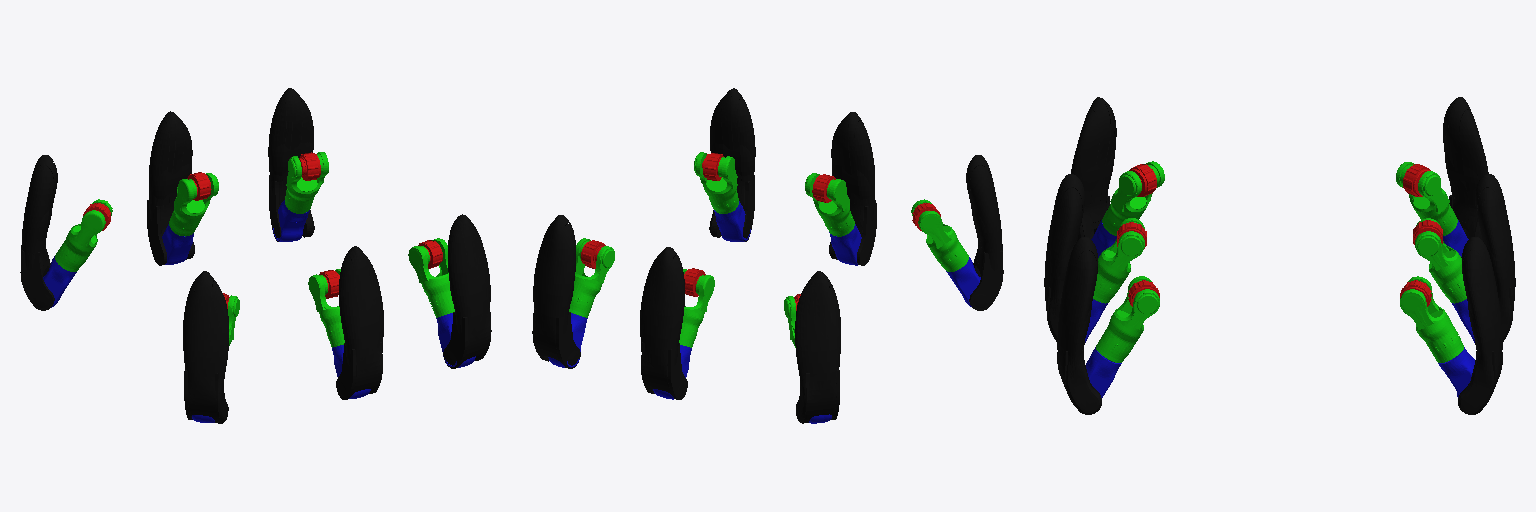
--- What the picture shows (computed from the rendered views, not written in the file) ---
3 views of the same robot in one strip: view 1: azimuth 30°, elevation 25°; view 2: azimuth 150°, elevation 25°; view 3: azimuth 270°, elevation 25° (orthographic).
Model crabster with 26 links and 25 joints (24 revolute, 1 fixed), rooted at world, posed all joints at 0.
Visible links, largest first — view 1: Subsystem14(FR_Leg), Subsystem24(MR_Leg), Subsystem34(RR_Leg), Subsystem54(ML_Leg), Subsystem44(FL_Leg), Subsystem64(RL_Leg), Subsystem32(RR_Roll_Arm), Subsystem42(FL_Roll_Arm), Subsystem52(ML_Roll_Arm), Subsystem62(RL_Roll_Arm), Subsystem22(MR_Roll_Arm), Subsystem63(RL_Pitch_Arm) (+3 smaller); view 2: Subsystem44(FL_Leg), Subsystem54(ML_Leg), Subsystem64(RL_Leg), Subsystem24(MR_Leg), Subsystem14(FR_Leg), Subsystem34(RR_Leg), Subsystem12(FR_Roll_Arm), Subsystem62(RL_Roll_Arm), Subsystem22(MR_Roll_Arm), Subsystem32(RR_Roll_Arm), Subsystem52(ML_Roll_Arm), Subsystem33(RR_Pitch_Arm) (+2 smaller); view 3: Subsystem64(RL_Leg), Subsystem34(RR_Leg), Subsystem44(FL_Leg), Subsystem14(FR_Leg), Subsystem24(MR_Leg), Subsystem54(ML_Leg), Subsystem32(RR_Roll_Arm), Subsystem62(RL_Roll_Arm), Subsystem22(MR_Roll_Arm), Subsystem52(ML_Roll_Arm), Subsystem12(FR_Roll_Arm), Subsystem42(FL_Roll_Arm) (+2 smaller).
Link boxes in pixels (bbox=[...]): Subsystem14(FR_Leg): bbox=[183, 271, 228, 423]; Subsystem24(MR_Leg): bbox=[336, 246, 383, 399]; Subsystem34(RR_Leg): bbox=[443, 214, 491, 368]; Subsystem54(ML_Leg): bbox=[147, 111, 194, 265]; Subsystem44(FL_Leg): bbox=[20, 155, 57, 310]; Subsystem64(RL_Leg): bbox=[268, 88, 314, 241]; Subsystem32(RR_Roll_Arm): bbox=[408, 238, 454, 317]; Subsystem42(FL_Roll_Arm): bbox=[55, 199, 112, 271]; Subsystem52(ML_Roll_Arm): bbox=[169, 173, 218, 236]; Subsystem62(RL_Roll_Arm): bbox=[285, 152, 328, 213]; Subsystem22(MR_Roll_Arm): bbox=[308, 269, 344, 347]; Subsystem63(RL_Pitch_Arm): bbox=[273, 200, 309, 241]; Subsystem44(FL_Leg): bbox=[795, 271, 840, 423]; Subsystem54(ML_Leg): bbox=[640, 247, 687, 399]; Subsystem64(RL_Leg): bbox=[532, 215, 580, 368]; Subsystem24(MR_Leg): bbox=[829, 112, 876, 265]; Subsystem14(FR_Leg): bbox=[966, 155, 1003, 310]; Subsystem34(RR_Leg): bbox=[709, 88, 755, 241]; Subsystem12(FR_Roll_Arm): bbox=[911, 199, 968, 271]; Subsystem62(RL_Roll_Arm): bbox=[569, 238, 614, 317]; Subsystem22(MR_Roll_Arm): bbox=[805, 173, 854, 236]; Subsystem32(RR_Roll_Arm): bbox=[694, 152, 738, 213]; Subsystem52(ML_Roll_Arm): bbox=[679, 269, 714, 347]; Subsystem33(RR_Pitch_Arm): bbox=[714, 201, 750, 241]; Subsystem64(RL_Leg): bbox=[1458, 237, 1502, 414]; Subsystem34(RR_Leg): bbox=[1057, 237, 1101, 414]; Subsystem44(FL_Leg): bbox=[1443, 97, 1488, 257]; Subsystem14(FR_Leg): bbox=[1071, 97, 1116, 240]; Subsystem24(MR_Leg): bbox=[1044, 174, 1084, 344]; Subsystem54(ML_Leg): bbox=[1475, 174, 1515, 344]; Subsystem32(RR_Roll_Arm): bbox=[1096, 276, 1159, 362]; Subsystem62(RL_Roll_Arm): bbox=[1400, 276, 1463, 362]; Subsystem22(MR_Roll_Arm): bbox=[1093, 218, 1144, 303]; Subsystem52(ML_Roll_Arm): bbox=[1415, 218, 1466, 303]; Subsystem12(FR_Roll_Arm): bbox=[1102, 161, 1164, 235]; Subsystem42(FL_Roll_Arm): bbox=[1396, 162, 1457, 235].
Bounding box of the posed robot: 2.15 × 2.6 × 1.04 m (x, y, z).
Meshes: 25 distinct files referenced, 24 mesh visuals loaded (24 binary STL); not drawn: 1 (reference not matched to a file when rendering).

The robot description file, URDF, robot "crabster":
<?xml version="1.0"?>
<robot
	xmlns:xacro="http://wiki.ros.org/xacro" name="crabster">

	<link name="world"></link>
	<link name="BaseBody">
		<inertial>
			<origin
				xyz="-0.354345 0.000365 -0.054511"
				rpy="0.000644 0.000062 1.570881"/>
			<mass
				value="100.040817"/>
			<inertia
				ixx="37.154571"
				ixy="-0.000000"
				ixz="0.000000"
				iyy="52.546078"
				iyz="0.000000"
				izz="87.239257"/>
		</inertial>
		<visual>
			<origin xyz="0 0 0" rpy="0 0 0"/>
			<geometry>
				<mesh filename="package://crabster_visual/meshes/BaseBody.STL"/>
			</geometry>
			<material name="">
				<color rgba="0.8 0.8 0.8 1"/>
			</material>
		</visual>
		<collision>
			<origin xyz="0 0 0" rpy="0 0 0"/>
			<geometry>
				<mesh filename="package://crabster_visual/meshes/BaseBody.STL"/>
			</geometry>
		</collision>
	</link>
	<joint name="world_to_BaseBody" type="fixed">
		<origin
			xyz="0.000000 0.000000 0.000000"
			rpy="3.141593 0.000000 3.141593"/>
		<parent link="world"/>
		<child link="BaseBody"/>
	</joint>
	<link name="Subsystem11(FR_Yaw_Motor)">
		<inertial>
			<origin
				xyz="-0.000025 -0.004826 0.005438"
				rpy="0.000017 0.000646 1.597550"/>
			<mass
				value="10.281919"/>
			<inertia
				ixx="0.025810"
				ixy="0.000000"
				ixz="-0.000000"
				iyy="0.025875"
				iyz="0.000000"
				izz="0.031298"/>
		</inertial>
		<visual>
			<origin xyz="0 0 0" rpy="0 0 0"/>
			<geometry>
				<mesh filename="package://crabster_visual/meshes/Subsystem11(FR_Yaw_Motor).STL"/>
			</geometry>
			<material name="">
				<color rgba="0.8 0.1 0.1 1"/>
			</material>
		</visual>
		<collision>
			<origin xyz="0 0 0" rpy="0 0 0"/>
			<geometry>
				<mesh filename="package://crabster_visual/meshes/Subsystem11(FR_Yaw_Motor).STL"/>
			</geometry>
		</collision>
	</link>
	<joint name="BaseBody_to_Subsystem11(FR_Yaw_Motor)" type="revolute">
		<origin
			xyz="0.416200 -0.760100 -0.005500"
			rpy="0.000000 -0.000000 -0.785398"/>
		<parent link="BaseBody"/>
		<child link="Subsystem11(FR_Yaw_Motor)"/>
		<axis xyz="0 0 1"/>
		<limit
			lower="-3.14"
			upper="3.14"
			effort="10"
			velocity="100"/>
	</joint>
	<link name="Subsystem12(FR_Roll_Arm)">
		<inertial>
			<origin
				xyz="0.216360 -0.000124 -0.001763"
				rpy="-1.570230 0.015923 -3.141552"/>
			<mass
				value="10.085826"/>
			<inertia
				ixx="0.052195"
				ixy="0.000000"
				ixz="-0.000000"
				iyy="0.166548"
				iyz="0.000000"
				izz="0.185913"/>
		</inertial>
		<visual>
			<origin xyz="0 0 0" rpy="0 0 0"/>
			<geometry>
				<mesh filename="package://crabster_visual/meshes/Subsystem12(FR_Roll_Arm).STL"/>
			</geometry>
			<material name="">
				<color rgba="0.1 0.8 0.1 1"/>
			</material>
		</visual>
		<collision>
			<origin xyz="0 0 0" rpy="0 0 0"/>
			<geometry>
				<mesh filename="package://crabster_visual/meshes/Subsystem12(FR_Roll_Arm).STL"/>
			</geometry>
		</collision>
	</link>
	<joint name="Subsystem11(FR_Yaw_Motor)_to_Subsystem12(FR_Roll_Arm)" type="revolute">
		<origin
			xyz="0.000000 0.000000 0.000000"
			rpy="-1.570804 -1.047193 0.000009"/>
		<parent link="Subsystem11(FR_Yaw_Motor)"/>
		<child link="Subsystem12(FR_Roll_Arm)"/>
		<axis xyz="0 0 1"/>
		<limit
			lower="-3.14"
			upper="3.14"
			effort="10"
			velocity="100"/>
	</joint>
	<link name="Subsystem13(FR_Pitch_Arm)">
		<inertial>
			<origin
				xyz="-0.000199 0.003130 0.181480"
				rpy="1.527506 -1.549390 -1.518990"/>
			<mass
				value="10.017580"/>
			<inertia
				ixx="0.058985"
				ixy="-0.000000"
				ixz="-0.000000"
				iyy="0.127085"
				iyz="0.000000"
				izz="0.134936"/>
		</inertial>
		<visual>
			<origin xyz="0 0 0" rpy="0 0 0"/>
			<geometry>
				<mesh filename="package://crabster_visual/meshes/Subsystem13(FR_Pitch_Arm).STL"/>
			</geometry>
			<material name="">
				<color rgba="0.1 0.1 0.8 1"/>
			</material>
		</visual>
		<collision>
			<origin xyz="0 0 0" rpy="0 0 0"/>
			<geometry>
				<mesh filename="package://crabster_visual/meshes/Subsystem13(FR_Pitch_Arm).STL"/>
			</geometry>
		</collision>
	</link>
	<joint name="Subsystem12(FR_Roll_Arm)_to_Subsystem13(FR_Pitch_Arm)" type="revolute">
		<origin
			xyz="0.394588 -0.000121 -0.000617"
			rpy="-2.356194 -1.570791 -0.785394"/>
		<parent link="Subsystem12(FR_Roll_Arm)"/>
		<child link="Subsystem13(FR_Pitch_Arm)"/>
		<axis xyz="0 0 1"/>
		<limit
			lower="-3.14"
			upper="3.14"
			effort="10"
			velocity="100"/>
	</joint>
	<link name="Subsystem14(FR_Leg)">
		<inertial>
			<origin
				xyz="0.276408 0.382057 -0.007738"
				rpy="-1.556785 -0.045628 1.077894"/>
			<mass
				value="20.079610"/>
			<inertia
				ixx="0.132719"
				ixy="0.000000"
				ixz="0.000000"
				iyy="0.950656"
				iyz="0.000000"
				izz="1.015634"/>
		</inertial>
		<visual>
			<origin xyz="0 0 0" rpy="0 0 0"/>
			<geometry>
				<mesh filename="package://crabster_visual/meshes/Subsystem14(FR_Leg).STL"/>
			</geometry>
			<material name="">
				<color rgba="0.1 0.1 0.1 1"/>
			</material>
		</visual>
		<collision>
			<origin xyz="0 0 0" rpy="0 0 0"/>
			<geometry>
				<mesh filename="package://crabster_visual/meshes/Subsystem14(FR_Leg).STL"/>
			</geometry>
		</collision>
	</link>
	<joint name="Subsystem13(FR_Pitch_Arm)_to_Subsystem14(FR_Leg)" type="revolute">
		<origin
			xyz="-0.000090 0.000026 0.263276"
			rpy="-1.570800 -0.000003 -1.570793"/>
		<parent link="Subsystem13(FR_Pitch_Arm)"/>
		<child link="Subsystem14(FR_Leg)"/>
		<axis xyz="0 0 1"/>
		<limit
			lower="-3.14"
			upper="3.14"
			effort="10"
			velocity="100"/>
	</joint>
	<link name="Subsystem21(MR_Yaw_Motor)">
		<inertial>
			<origin
				xyz="-0.000019 -0.004751 0.005430"
				rpy="-3.141460 -1.543093 -1.570929"/>
			<mass
				value="10.297182"/>
			<inertia
				ixx="0.025879"
				ixy="0.000000"
				ixz="0.000000"
				iyy="0.025944"
				iyz="0.000000"
				izz="0.031343"/>
		</inertial>
		<visual>
			<origin xyz="0 0 0" rpy="0 0 0"/>
			<geometry>
				<mesh filename="package://crabster_visual/meshes/Subsystem21(MR_Yaw_Motor).STL"/>
			</geometry>
			<material name="">
				<color rgba="0.8 0.1 0.1 1"/>
			</material>
		</visual>
		<collision>
			<origin xyz="0 0 0" rpy="0 0 0"/>
			<geometry>
				<mesh filename="package://crabster_visual/meshes/Subsystem21(MR_Yaw_Motor).STL"/>
			</geometry>
		</collision>
	</link>
	<joint name="BaseBody_to_Subsystem21(MR_Yaw_Motor)" type="revolute">
		<origin
			xyz="-0.343900 -0.817000 -0.005500"
			rpy="0.000000 -0.000000 -1.570800"/>
		<parent link="BaseBody"/>
		<child link="Subsystem21(MR_Yaw_Motor)"/>
		<axis xyz="0 0 1"/>
		<limit
			lower="-3.14"
			upper="3.14"
			effort="10"
			velocity="100"/>
	</joint>
	<link name="Subsystem22(MR_Roll_Arm)">
		<inertial>
			<origin
				xyz="0.217032 -0.000121 -0.000788"
				rpy="-1.570800 0.011003 -3.141562"/>
			<mass
				value="10.022381"/>
			<inertia
				ixx="0.051051"
				ixy="0.000000"
				ixz="0.000000"
				iyy="0.168881"
				iyz="0.000000"
				izz="0.186995"/>
		</inertial>
		<visual>
			<origin xyz="0 0 0" rpy="0 0 0"/>
			<geometry>
				<mesh filename="package://crabster_visual/meshes/Subsystem22(MR_Roll_Arm).STL"/>
			</geometry>
			<material name="">
				<color rgba="0.1 0.8 0.1 1"/>
			</material>
		</visual>
		<collision>
			<origin xyz="0 0 0" rpy="0 0 0"/>
			<geometry>
				<mesh filename="package://crabster_visual/meshes/Subsystem22(MR_Roll_Arm).STL"/>
			</geometry>
		</collision>
	</link>
	<joint name="Subsystem21(MR_Yaw_Motor)_to_Subsystem22(MR_Roll_Arm)" type="revolute">
		<origin
			xyz="0.000000 0.000000 0.000000"
			rpy="-1.570804 -1.047193 0.000004"/>
		<parent link="Subsystem21(MR_Yaw_Motor)"/>
		<child link="Subsystem22(MR_Roll_Arm)"/>
		<axis xyz="0 0 1"/>
		<limit
			lower="-3.14"
			upper="3.14"
			effort="10"
			velocity="100"/>
	</joint>
	<link name="Subsystem23(MR_Pitch_Arm)">
		<inertial>
			<origin
				xyz="-0.000134 0.003083 0.181469"
				rpy="1.621831 1.548571 1.630772"/>
			<mass
				value="10.018527"/>
			<inertia
				ixx="0.058979"
				ixy="0.000000"
				ixz="-0.000000"
				iyy="0.127120"
				iyz="-0.000000"
				izz="0.134949"/>
		</inertial>
		<visual>
			<origin xyz="0 0 0" rpy="0 0 0"/>
			<geometry>
				<mesh filename="package://crabster_visual/meshes/Subsystem23(MR_Pitch_Arm).STL"/>
			</geometry>
			<material name="">
				<color rgba="0.1 0.1 0.8 1"/>
			</material>
		</visual>
		<collision>
			<origin xyz="0 0 0" rpy="0 0 0"/>
			<geometry>
				<mesh filename="package://crabster_visual/meshes/Subsystem23(MR_Pitch_Arm).STL"/>
			</geometry>
		</collision>
	</link>
	<joint name="Subsystem22(MR_Roll_Arm)_to_Subsystem23(MR_Pitch_Arm)" type="revolute">
		<origin
			xyz="0.394589 -0.000118 -0.000497"
			rpy="-2.356194 -1.570791 -0.785394"/>
		<parent link="Subsystem22(MR_Roll_Arm)"/>
		<child link="Subsystem23(MR_Pitch_Arm)"/>
		<axis xyz="0 0 1"/>
		<limit
			lower="-3.14"
			upper="3.14"
			effort="10"
			velocity="100"/>
	</joint>
	<link name="Subsystem24(MR_Leg)">
		<inertial>
			<origin
				xyz="0.276869 0.381100 -0.012619"
				rpy="-1.587808 0.029798 -2.066940"/>
			<mass
				value="20.080756"/>
			<inertia
				ixx="0.135168"
				ixy="-0.000000"
				ixz="0.000000"
				iyy="0.931520"
				iyz="0.000000"
				izz="0.998541"/>
		</inertial>
		<visual>
			<origin xyz="0 0 0" rpy="0 0 0"/>
			<geometry>
				<mesh filename="package://crabster_visual/meshes/Subsystem24(MR_Leg).STL"/>
			</geometry>
			<material name="">
				<color rgba="0.1 0.1 0.1 1"/>
			</material>
		</visual>
		<collision>
			<origin xyz="0 0 0" rpy="0 0 0"/>
			<geometry>
				<mesh filename="package://crabster_visual/meshes/Subsystem24(MR_Leg).STL"/>
			</geometry>
		</collision>
	</link>
	<joint name="Subsystem23(MR_Pitch_Arm)_to_Subsystem24(MR_Leg)" type="revolute">
		<origin
			xyz="-0.000003 -0.000018 0.263185"
			rpy="-1.570800 -0.000003 -1.570793"/>
		<parent link="Subsystem23(MR_Pitch_Arm)"/>
		<child link="Subsystem24(MR_Leg)"/>
		<axis xyz="0 0 1"/>
		<limit
			lower="-3.14"
			upper="3.14"
			effort="10"
			velocity="100"/>
	</joint>
	<link name="Subsystem31(RR_Yaw_Motor)">
		<inertial>
			<origin
				xyz="-0.000014 -0.004760 0.005430"
				rpy="-0.000133 -1.543090 -1.570686"/>
			<mass
				value="10.297183"/>
			<inertia
				ixx="0.025879"
				ixy="0.000000"
				ixz="0.000000"
				iyy="0.025944"
				iyz="0.000000"
				izz="0.031343"/>
		</inertial>
		<visual>
			<origin xyz="0 0 0" rpy="0 0 0"/>
			<geometry>
				<mesh filename="package://crabster_visual/meshes/Subsystem31(RR_Yaw_Motor).STL"/>
			</geometry>
			<material name="">
				<color rgba="0.8 0.1 0.1 1"/>
			</material>
		</visual>
		<collision>
			<origin xyz="0 0 0" rpy="0 0 0"/>
			<geometry>
				<mesh filename="package://crabster_visual/meshes/Subsystem31(RR_Yaw_Motor).STL"/>
			</geometry>
		</collision>
	</link>
	<joint name="BaseBody_to_Subsystem31(RR_Yaw_Motor)" type="revolute">
		<origin
			xyz="-1.102100 -0.748200 -0.005500"
			rpy="0.000000 -0.000000 -1.745330"/>
		<parent link="BaseBody"/>
		<child link="Subsystem31(RR_Yaw_Motor)"/>
		<axis xyz="0 0 1"/>
		<limit
			lower="-3.14"
			upper="3.14"
			effort="10"
			velocity="100"/>
	</joint>
	<link name="Subsystem32(RR_Roll_Arm)">
		<inertial>
			<origin
				xyz="0.217342 -0.000116 -0.001058"
				rpy="-1.570780 0.014633 -3.141562"/>
			<mass
				value="10.002542"/>
			<inertia
				ixx="0.050701"
				ixy="-0.000000"
				ixz="0.000000"
				iyy="0.168306"
				iyz="0.000000"
				izz="0.186120"/>
		</inertial>
		<visual>
			<origin xyz="0 0 0" rpy="0 0 0"/>
			<geometry>
				<mesh filename="package://crabster_visual/meshes/Subsystem32(RR_Roll_Arm).STL"/>
			</geometry>
			<material name="">
				<color rgba="0.1 0.8 0.1 1"/>
			</material>
		</visual>
		<collision>
			<origin xyz="0 0 0" rpy="0 0 0"/>
			<geometry>
				<mesh filename="package://crabster_visual/meshes/Subsystem32(RR_Roll_Arm).STL"/>
			</geometry>
		</collision>
	</link>
	<joint name="Subsystem31(RR_Yaw_Motor)_to_Subsystem32(RR_Roll_Arm)" type="revolute">
		<origin
			xyz="0.000000 0.000000 0.000000"
			rpy="-1.570804 -1.047193 0.000004"/>
		<parent link="Subsystem31(RR_Yaw_Motor)"/>
		<child link="Subsystem32(RR_Roll_Arm)"/>
		<axis xyz="0 0 1"/>
		<limit
			lower="-3.14"
			upper="3.14"
			effort="10"
			velocity="100"/>
	</joint>
	<link name="Subsystem33(RR_Pitch_Arm)">
		<inertial>
			<origin
				xyz="-0.015934 0.001556 0.180794"
				rpy="0.308521 1.480663 0.341804"/>
			<mass
				value="10.018360"/>
			<inertia
				ixx="0.058982"
				ixy="-0.000000"
				ixz="-0.000000"
				iyy="0.127126"
				iyz="0.000000"
				izz="0.134959"/>
		</inertial>
		<visual>
			<origin xyz="0 0 0" rpy="0 0 0"/>
			<geometry>
				<mesh filename="package://crabster_visual/meshes/Subsystem33(RR_Pitch_Arm).STL"/>
			</geometry>
			<material name="">
				<color rgba="0.1 0.1 0.8 1"/>
			</material>
		</visual>
		<collision>
			<origin xyz="0 0 0" rpy="0 0 0"/>
			<geometry>
				<mesh filename="package://crabster_visual/meshes/Subsystem33(RR_Pitch_Arm).STL"/>
			</geometry>
		</collision>
	</link>
	<joint name="Subsystem32(RR_Roll_Arm)_to_Subsystem33(RR_Pitch_Arm)" type="revolute">
		<origin
			xyz="0.394592 -0.000114 -0.000510"
			rpy="0.257951 -1.480877 2.876035"/>
		<parent link="Subsystem32(RR_Roll_Arm)"/>
		<child link="Subsystem33(RR_Pitch_Arm)"/>
		<axis xyz="0 0 1"/>
		<limit
			lower="-3.14"
			upper="3.14"
			effort="10"
			velocity="100"/>
	</joint>
	<link name="Subsystem34(RR_Leg)">
		<inertial>
			<origin
				xyz="0.275951 0.381784 -0.009989"
				rpy="-1.586181 0.038348 -2.061123"/>
			<mass
				value="20.076146"/>
			<inertia
				ixx="0.135488"
				ixy="0.000000"
				ixz="0.000000"
				iyy="0.932842"
				iyz="0.000000"
				izz="0.999247"/>
		</inertial>
		<visual>
			<origin xyz="0 0 0" rpy="0 0 0"/>
			<geometry>
				<mesh filename="package://crabster_visual/meshes/Subsystem34(RR_Leg).STL"/>
			</geometry>
			<material name="">
				<color rgba="0.1 0.1 0.1 1"/>
			</material>
		</visual>
		<collision>
			<origin xyz="0 0 0" rpy="0 0 0"/>
			<geometry>
				<mesh filename="package://crabster_visual/meshes/Subsystem34(RR_Leg).STL"/>
			</geometry>
		</collision>
	</link>
	<joint name="Subsystem33(RR_Pitch_Arm)_to_Subsystem34(RR_Leg)" type="revolute">
		<origin
			xyz="-0.022817 -0.002213 0.262262"
			rpy="-1.483858 0.006578 -1.547219"/>
		<parent link="Subsystem33(RR_Pitch_Arm)"/>
		<child link="Subsystem34(RR_Leg)"/>
		<axis xyz="0 0 1"/>
		<limit
			lower="-3.14"
			upper="3.14"
			effort="10"
			velocity="100"/>
	</joint>
	<link name="Subsystem41(FL_Yaw_Motor)">
		<inertial>
			<origin
				xyz="-0.000019 0.005340 0.005552"
				rpy="-0.163411 -1.557067 1.734883"/>
			<mass
				value="10.293062"/>
			<inertia
				ixx="0.025362"
				ixy="0.000000"
				ixz="0.000000"
				iyy="0.025418"
				iyz="-0.000000"
				izz="0.031384"/>
		</inertial>
		<visual>
			<origin xyz="0 0 0" rpy="0 0 0"/>
			<geometry>
				<mesh filename="package://crabster_visual/meshes/Subsystem41(FL_Yaw_Motor).STL"/>
			</geometry>
			<material name="">
				<color rgba="0.8 0.1 0.1 1"/>
			</material>
		</visual>
		<collision>
			<origin xyz="0 0 0" rpy="0 0 0"/>
			<geometry>
				<mesh filename="package://crabster_visual/meshes/Subsystem41(FL_Yaw_Motor).STL"/>
			</geometry>
		</collision>
	</link>
	<joint name="BaseBody_to_Subsystem41(FL_Yaw_Motor)" type="revolute">
		<origin
			xyz="0.415800 0.760500 -0.005500"
			rpy="0.000000 -0.000000 0.785398"/>
		<parent link="BaseBody"/>
		<child link="Subsystem41(FL_Yaw_Motor)"/>
		<axis xyz="0 0 1"/>
		<limit
			lower="-3.14"
			upper="3.14"
			effort="10"
			velocity="100"/>
	</joint>
	<link name="Subsystem42(FL_Roll_Arm)">
		<inertial>
			<origin
				xyz="0.216179 -0.000121 0.006365"
				rpy="1.570208 -0.089580 -3.141517"/>
			<mass
				value="10.035839"/>
			<inertia
				ixx="0.050344"
				ixy="0.000000"
				ixz="-0.000000"
				iyy="0.169804"
				iyz="-0.000000"
				izz="0.187514"/>
		</inertial>
		<visual>
			<origin xyz="0 0 0" rpy="0 0 0"/>
			<geometry>
				<mesh filename="package://crabster_visual/meshes/Subsystem42(FL_Roll_Arm).STL"/>
			</geometry>
			<material name="">
				<color rgba="0.1 0.8 0.1 1"/>
			</material>
		</visual>
		<collision>
			<origin xyz="0 0 0" rpy="0 0 0"/>
			<geometry>
				<mesh filename="package://crabster_visual/meshes/Subsystem42(FL_Roll_Arm).STL"/>
			</geometry>
		</collision>
	</link>
	<joint name="Subsystem41(FL_Yaw_Motor)_to_Subsystem42(FL_Roll_Arm)" type="revolute">
		<origin
			xyz="0.000000 0.000000 0.000000"
			rpy="-1.570804 -1.047193 0.000004"/>
		<parent link="Subsystem41(FL_Yaw_Motor)"/>
		<child link="Subsystem42(FL_Roll_Arm)"/>
		<axis xyz="0 0 1"/>
		<limit
			lower="-3.14"
			upper="3.14"
			effort="10"
			velocity="100"/>
	</joint>
	<link name="Subsystem43(FL_Pitch_Arm)">
		<inertial>
			<origin
				xyz="-0.000004 0.003202 0.178836"
				rpy="1.578956 -1.547059 -1.576808"/>
			<mass
				value="10.041873"/>
			<inertia
				ixx="0.059072"
				ixy="0.000000"
				ixz="-0.000000"
				iyy="0.127303"
				iyz="-0.000000"
				izz="0.135132"/>
		</inertial>
		<visual>
			<origin xyz="0 0 0" rpy="0 0 0"/>
			<geometry>
				<mesh filename="package://crabster_visual/meshes/Subsystem43(FL_Pitch_Arm).STL"/>
			</geometry>
			<material name="">
				<color rgba="0.1 0.1 0.8 1"/>
			</material>
		</visual>
		<collision>
			<origin xyz="0 0 0" rpy="0 0 0"/>
			<geometry>
				<mesh filename="package://crabster_visual/meshes/Subsystem43(FL_Pitch_Arm).STL"/>
			</geometry>
		</collision>
	</link>
	<joint name="Subsystem42(FL_Roll_Arm)_to_Subsystem43(FL_Pitch_Arm)" type="revolute">
		<origin
			xyz="0.394591 -0.000116 0.000057"
			rpy="-2.356194 -1.570791 -0.785394"/>
		<parent link="Subsystem42(FL_Roll_Arm)"/>
		<child link="Subsystem43(FL_Pitch_Arm)"/>
		<axis xyz="0 0 1"/>
		<limit
			lower="-3.14"
			upper="3.14"
			effort="10"
			velocity="100"/>
	</joint>
	<link name="Subsystem44(FL_Leg)">
		<inertial>
			<origin
				xyz="0.278336 0.384882 0.008398"
				rpy="-1.551276 -0.037865 -2.066612"/>
			<mass
				value="20.000655"/>
			<inertia
				ixx="0.131191"
				ixy="0.000000"
				ixz="-0.000000"
				iyy="0.959954"
				iyz="0.000000"
				izz="1.024569"/>
		</inertial>
		<visual>
			<origin xyz="0 0 0" rpy="0 0 0"/>
			<geometry>
				<mesh filename="package://crabster_visual/meshes/Subsystem44(FL_Leg).STL"/>
			</geometry>
			<material name="">
				<color rgba="0.1 0.1 0.1 1"/>
			</material>
		</visual>
		<collision>
			<origin xyz="0 0 0" rpy="0 0 0"/>
			<geometry>
				<mesh filename="package://crabster_visual/meshes/Subsystem44(FL_Leg).STL"/>
			</geometry>
		</collision>
	</link>
	<joint name="Subsystem43(FL_Pitch_Arm)_to_Subsystem44(FL_Leg)" type="revolute">
		<origin
			xyz="0.000031 0.000031 0.260960"
			rpy="-1.570800 -0.000003 -1.570793"/>
		<parent link="Subsystem43(FL_Pitch_Arm)"/>
		<child link="Subsystem44(FL_Leg)"/>
		<axis xyz="0 0 1"/>
		<limit
			lower="-3.14"
			upper="3.14"
			effort="10"
			velocity="100"/>
	</joint>
	<link name="Subsystem51(ML_Yaw_Motor)">
		<inertial>
			<origin
				xyz="-0.000010 0.004754 0.005430"
				rpy="-3.141460 -1.543113 1.570666"/>
			<mass
				value="10.297596"/>
			<inertia
				ixx="0.025881"
				ixy="0.000000"
				ixz="0.000000"
				iyy="0.025946"
				iyz="0.000000"
				izz="0.031343"/>
		</inertial>
		<visual>
			<origin xyz="0 0 0" rpy="0 0 0"/>
			<geometry>
				<mesh filename="package://crabster_visual/meshes/Subsystem51(ML_Yaw_Motor).STL"/>
			</geometry>
			<material name="">
				<color rgba="0.8 0.1 0.1 1"/>
			</material>
		</visual>
		<collision>
			<origin xyz="0 0 0" rpy="0 0 0"/>
			<geometry>
				<mesh filename="package://crabster_visual/meshes/Subsystem51(ML_Yaw_Motor).STL"/>
			</geometry>
		</collision>
	</link>
	<joint name="BaseBody_to_Subsystem51(ML_Yaw_Motor)" type="revolute">
		<origin
			xyz="-0.343900 0.817000 -0.005500"
			rpy="0.000000 -0.000000 1.570800"/>
		<parent link="BaseBody"/>
		<child link="Subsystem51(ML_Yaw_Motor)"/>
		<axis xyz="0 0 1"/>
		<limit
			lower="-3.14"
			upper="3.14"
			effort="10"
			velocity="100"/>
	</joint>
	<link name="Subsystem52(ML_Roll_Arm)">
		<inertial>
			<origin
				xyz="0.231000 -0.000113 0.007114"
				rpy="1.570790 -0.148957 -3.141559"/>
			<mass
				value="10.027569"/>
			<inertia
				ixx="0.045029"
				ixy="0.000000"
				ixz="0.000000"
				iyy="0.149452"
				iyz="0.000000"
				izz="0.160978"/>
		</inertial>
		<visual>
			<origin xyz="0 0 0" rpy="0 0 0"/>
			<geometry>
				<mesh filename="package://crabster_visual/meshes/Subsystem52(ML_Roll_Arm).STL"/>
			</geometry>
			<material name="">
				<color rgba="0.1 0.8 0.1 1"/>
			</material>
		</visual>
		<collision>
			<origin xyz="0 0 0" rpy="0 0 0"/>
			<geometry>
				<mesh filename="package://crabster_visual/meshes/Subsystem52(ML_Roll_Arm).STL"/>
			</geometry>
		</collision>
	</link>
	<joint name="Subsystem51(ML_Yaw_Motor)_to_Subsystem52(ML_Roll_Arm)" type="revolute">
		<origin
			xyz="0.000000 0.000000 0.000000"
			rpy="-1.570796 -1.047193 -0.000000"/>
		<parent link="Subsystem51(ML_Yaw_Motor)"/>
		<child link="Subsystem52(ML_Roll_Arm)"/>
		<axis xyz="0 0 1"/>
		<limit
			lower="-3.14"
			upper="3.14"
			effort="10"
			velocity="100"/>
	</joint>
	<link name="Subsystem53(ML_Pitch_Arm)">
		<inertial>
			<origin
				xyz="0.000023 -0.000020 0.122713"
				rpy="-1.667696 1.569828 1.474273"/>
			<mass
				value="10.063326"/>
			<inertia
				ixx="0.025847"
				ixy="0.000000"
				ixz="0.000000"
				iyy="0.061469"
				iyz="0.000000"
				izz="0.061623"/>
		</inertial>
		<visual>
			<origin xyz="0 0 0" rpy="0 0 0"/>
			<geometry>
				<mesh filename="package://crabster_visual/meshes/Subsystem53(ML_Pitch_Arm).STL"/>
			</geometry>
			<material name="">
				<color rgba="0.1 0.1 0.8 1"/>
			</material>
		</visual>
		<collision>
			<origin xyz="0 0 0" rpy="0 0 0"/>
			<geometry>
				<mesh filename="package://crabster_visual/meshes/Subsystem53(ML_Pitch_Arm).STL"/>
			</geometry>
		</collision>
	</link>
	<joint name="Subsystem52(ML_Roll_Arm)_to_Subsystem53(ML_Pitch_Arm)" type="revolute">
		<origin
			xyz="0.394594 -0.000111 0.000497"
			rpy="0.785398 -1.570796 2.356194"/>
		<parent link="Subsystem52(ML_Roll_Arm)"/>
		<child link="Subsystem53(ML_Pitch_Arm)"/>
		<axis xyz="0 0 1"/>
		<limit
			lower="-3.14"
			upper="3.14"
			effort="10"
			velocity="100"/>
	</joint>
	<link name="Subsystem54(ML_Leg)">
		<inertial>
			<origin
				xyz="0.276829 0.381056 0.012302"
				rpy="1.555582 0.032540 1.074795"/>
			<mass
				value="20.065685"/>
			<inertia
				ixx="0.134993"
				ixy="0.000000"
				ixz="0.000000"
				iyy="0.931335"
				iyz="0.000000"
				izz="0.998133"/>
		</inertial>
		<visual>
			<origin xyz="0 0 0" rpy="0 0 0"/>
			<geometry>
				<mesh filename="package://crabster_visual/meshes/Subsystem54(ML_Leg).STL"/>
			</geometry>
			<material name="">
				<color rgba="0.1 0.1 0.1 1"/>
			</material>
		</visual>
		<collision>
			<origin xyz="0 0 0" rpy="0 0 0"/>
			<geometry>
				<mesh filename="package://crabster_visual/meshes/Subsystem54(ML_Leg).STL"/>
			</geometry>
		</collision>
	</link>
	<joint name="Subsystem53(ML_Pitch_Arm)_to_Subsystem54(ML_Leg)" type="revolute">
		<origin
			xyz="0.000003 -0.000010 0.263181"
			rpy="-1.570796 -0.000000 -1.570796"/>
		<parent link="Subsystem53(ML_Pitch_Arm)"/>
		<child link="Subsystem54(ML_Leg)"/>
		<axis xyz="0 0 1"/>
		<limit
			lower="-3.14"
			upper="3.14"
			effort="10"
			velocity="100"/>
	</joint>
	<link name="Subsystem61(RL_Yaw_Motor)">
		<inertial>
			<origin
				xyz="-0.000005 0.004759 0.005430"
				rpy="-3.141460 -1.543093 1.570686"/>
			<mass
				value="10.297183"/>
			<inertia
				ixx="0.025879"
				ixy="-0.000000"
				ixz="0.000000"
				iyy="0.025944"
				iyz="-0.000000"
				izz="0.031343"/>
		</inertial>
		<visual>
			<origin xyz="0 0 0" rpy="0 0 0"/>
			<geometry>
				<mesh filename="package://crabster_visual/meshes/Subsystem61(RL_Yaw_Motor).STL"/>
			</geometry>
			<material name="">
				<color rgba="0.8 0.1 0.1 1"/>
			</material>
		</visual>
		<collision>
			<origin xyz="0 0 0" rpy="0 0 0"/>
			<geometry>
				<mesh filename="package://crabster_visual/meshes/Subsystem61(RL_Yaw_Motor).STL"/>
			</geometry>
		</collision>
	</link>
	<joint name="BaseBody_to_Subsystem61(RL_Yaw_Motor)" type="revolute">
		<origin
			xyz="-1.102100 0.748200 -0.005500"
			rpy="0.000000 -0.000000 1.745330"/>
		<parent link="BaseBody"/>
		<child link="Subsystem61(RL_Yaw_Motor)"/>
		<axis xyz="0 0 1"/>
		<limit
			lower="-3.14"
			upper="3.14"
			effort="10"
			velocity="100"/>
	</joint>
	<link name="Subsystem62(RL_Roll_Arm)">
		<inertial>
			<origin
				xyz="0.217346 -0.000109 0.001056"
				rpy="1.570780 -0.014637 -3.141560"/>
			<mass
				value="10.002542"/>
			<inertia
				ixx="0.050701"
				ixy="-0.000000"
				ixz="0.000000"
				iyy="0.168306"
				iyz="-0.000000"
				izz="0.186120"/>
		</inertial>
		<visual>
			<origin xyz="0 0 0" rpy="0 0 0"/>
			<geometry>
				<mesh filename="package://crabster_visual/meshes/Subsystem62(RL_Roll_Arm).STL"/>
			</geometry>
			<material name="">
				<color rgba="0.1 0.8 0.1 1"/>
			</material>
		</visual>
		<collision>
			<origin xyz="0 0 0" rpy="0 0 0"/>
			<geometry>
				<mesh filename="package://crabster_visual/meshes/Subsystem62(RL_Roll_Arm).STL"/>
			</geometry>
		</collision>
	</link>
	<joint name="Subsystem61(RL_Yaw_Motor)_to_Subsystem62(RL_Roll_Arm)" type="revolute">
		<origin
			xyz="0.000000 0.000000 0.000000"
			rpy="-1.570804 -1.047193 0.000004"/>
		<parent link="Subsystem61(RL_Yaw_Motor)"/>
		<child link="Subsystem62(RL_Roll_Arm)"/>
		<axis xyz="0 0 1"/>
		<limit
			lower="-3.14"
			upper="3.14"
			effort="10"
			velocity="100"/>
	</joint>
	<link name="Subsystem63(RL_Pitch_Arm)">
		<inertial>
			<origin
				xyz="0.015755 0.001622 0.180482"
				rpy="-0.344738 1.479048 2.774078"/>
			<mass
				value="10.042014"/>
			<inertia
				ixx="0.059074"
				ixy="-0.000000"
				ixz="0.000000"
				iyy="0.127318"
				iyz="0.000000"
				izz="0.135133"/>
		</inertial>
		<visual>
			<origin xyz="0 0 0" rpy="0 0 0"/>
			<geometry>
				<mesh filename="package://crabster_visual/meshes/Subsystem63(RL_Pitch_Arm).STL"/>
			</geometry>
			<material name="">
				<color rgba="0.1 0.1 0.8 1"/>
			</material>
		</visual>
		<collision>
			<origin xyz="0 0 0" rpy="0 0 0"/>
			<geometry>
				<mesh filename="package://crabster_visual/meshes/Subsystem63(RL_Pitch_Arm).STL"/>
			</geometry>
		</collision>
	</link>
	<joint name="Subsystem62(RL_Roll_Arm)_to_Subsystem63(RL_Pitch_Arm)" type="revolute">
		<origin
			xyz="0.394596 -0.000106 0.000509"
			rpy="-2.883555 -1.480878 -0.265645"/>
		<parent link="Subsystem62(RL_Roll_Arm)"/>
		<child link="Subsystem63(RL_Pitch_Arm)"/>
		<axis xyz="0 0 1"/>
		<limit
			lower="-3.14"
			upper="3.14"
			effort="10"
			velocity="100"/>
	</joint>
	<link name="Subsystem64(RL_Leg)">
		<inertial>
			<origin
				xyz="0.277373 0.385141 0.010089"
				rpy="1.552839 0.035081 1.081710"/>
			<mass
				value="20.006482"/>
			<inertia
				ixx="0.134418"
				ixy="0.000000"
				ixz="0.000000"
				iyy="0.944028"
				iyz="0.000000"
				izz="1.009798"/>
		</inertial>
		<visual>
			<origin xyz="0 0 0" rpy="0 0 0"/>
			<geometry>
				<mesh filename="package://crabster_visual/meshes/Subsystem64(RL_Leg).STL"/>
			</geometry>
			<material name="">
				<color rgba="0.1 0.1 0.1 1"/>
			</material>
		</visual>
		<collision>
			<origin xyz="0 0 0" rpy="0 0 0"/>
			<geometry>
				<mesh filename="package://crabster_visual/meshes/Subsystem64(RL_Leg).STL"/>
			</geometry>
		</collision>
	</link>
	<joint name="Subsystem63(RL_Pitch_Arm)_to_Subsystem64(RL_Leg)" type="revolute">
		<origin
			xyz="0.022901 -0.002308 0.262307"
			rpy="-1.657732 0.006578 -1.594366"/>
		<parent link="Subsystem63(RL_Pitch_Arm)"/>
		<child link="Subsystem64(RL_Leg)"/>
		<axis xyz="0 0 1"/>
		<limit
			lower="-3.14"
			upper="3.14"
			effort="10"
			velocity="100"/>
	</joint>
</robot>
